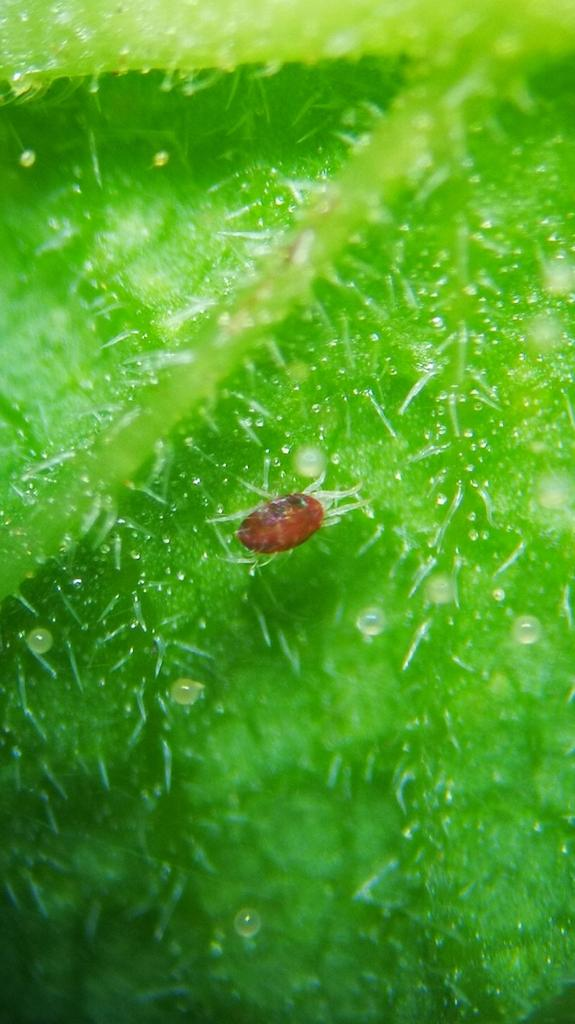tiny_pests: (196, 436, 384, 603)
